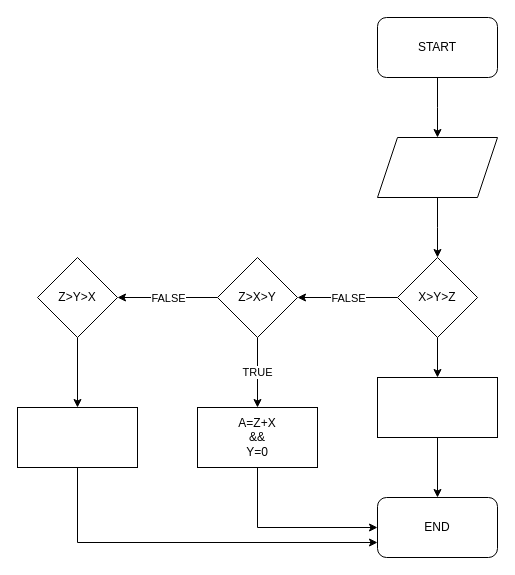
Some shapes in this 515 by 575 pixel diagram are drawn without their labels. Here are the shapes that lost their labels. From the top down, the box of each, then its label:
(376, 136, 498, 198): VAR X,Y,Z,A
(376, 376, 498, 438): A=X+Y && Z=0
(16, 406, 138, 468): A=Z+Y && X=0
